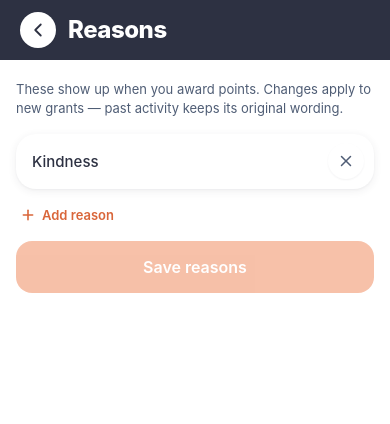
Test: ReasonsScreen › shows the error and stays open when the save fails
Step 1. Click the button "Add reason" → (67, 222), box [16, 203, 118, 241]
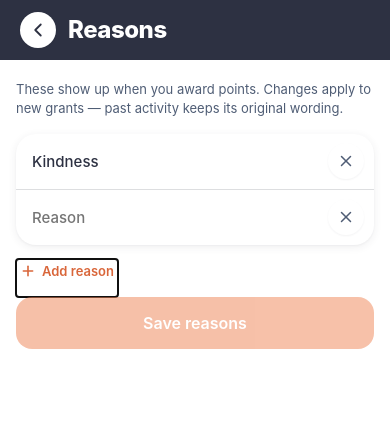
Step 2. Type "Teamwork" into the field with placeholder "Reason" → (176, 217), box [32, 196, 320, 239]
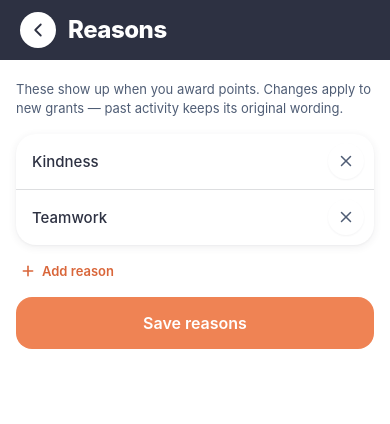
Step 3. Click the button "Save reasons" → (195, 323), box [16, 297, 374, 349]
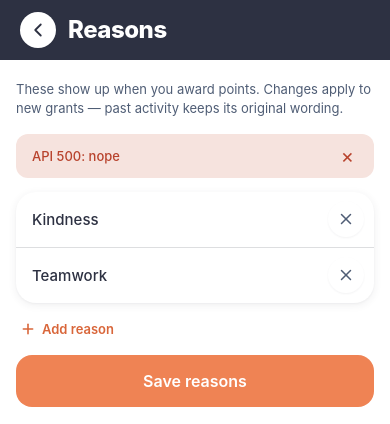
expect the text "API 500: nope" is shown: met, box [32, 148, 120, 164]
